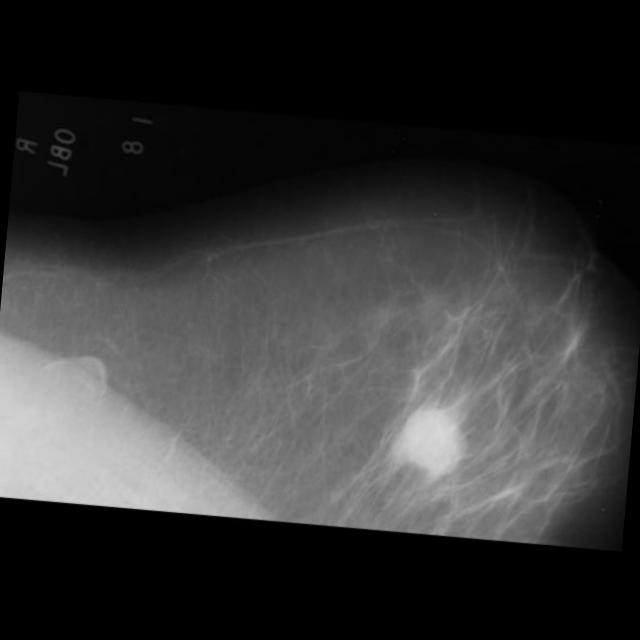CIRC: (396, 402, 472, 478)
